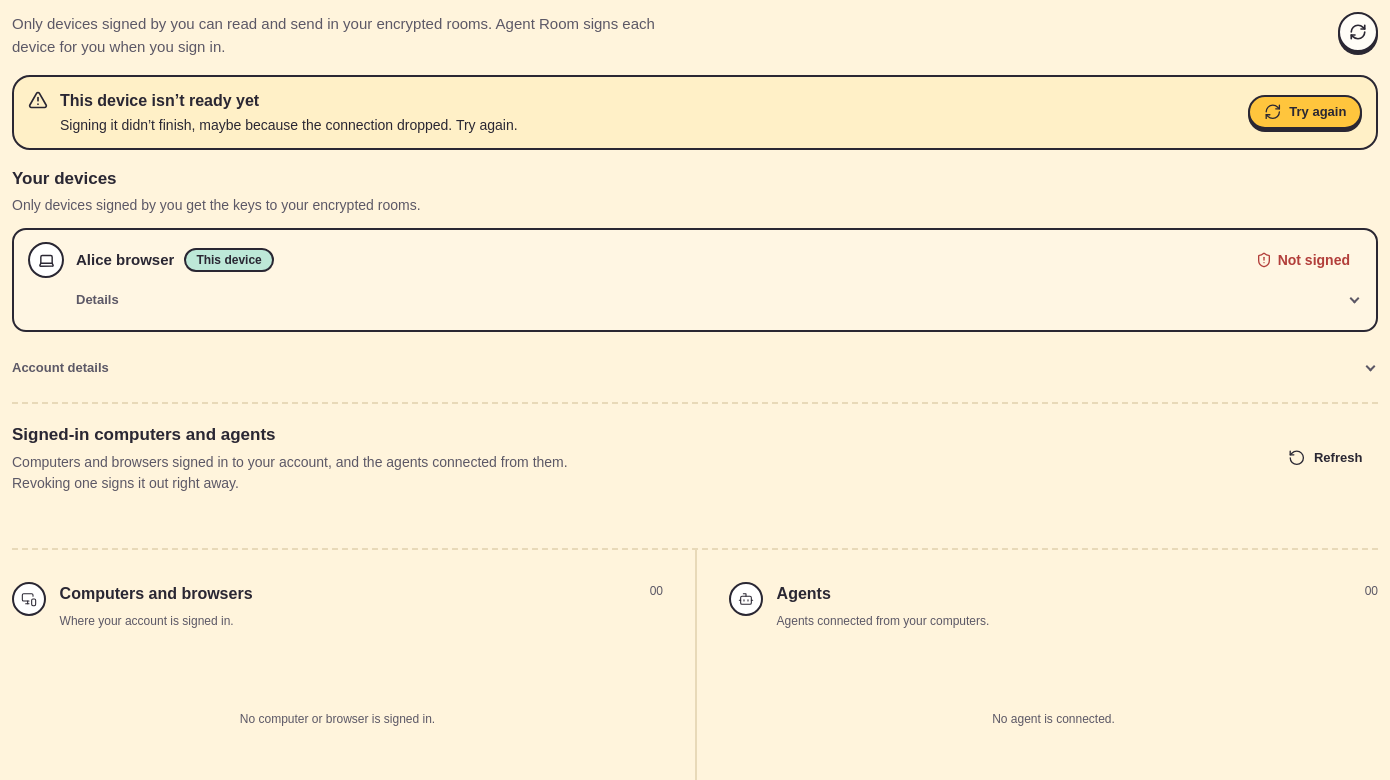
Test case: SecurityWorkspace › 自动签名出错时给一个重试，签好后变成已就绪
Expected: the text "This device isn’t ready yet" is shown, [60, 92, 259, 108]
Step 1. Click the button "Try again" → (1305, 112), box [1248, 96, 1362, 129]
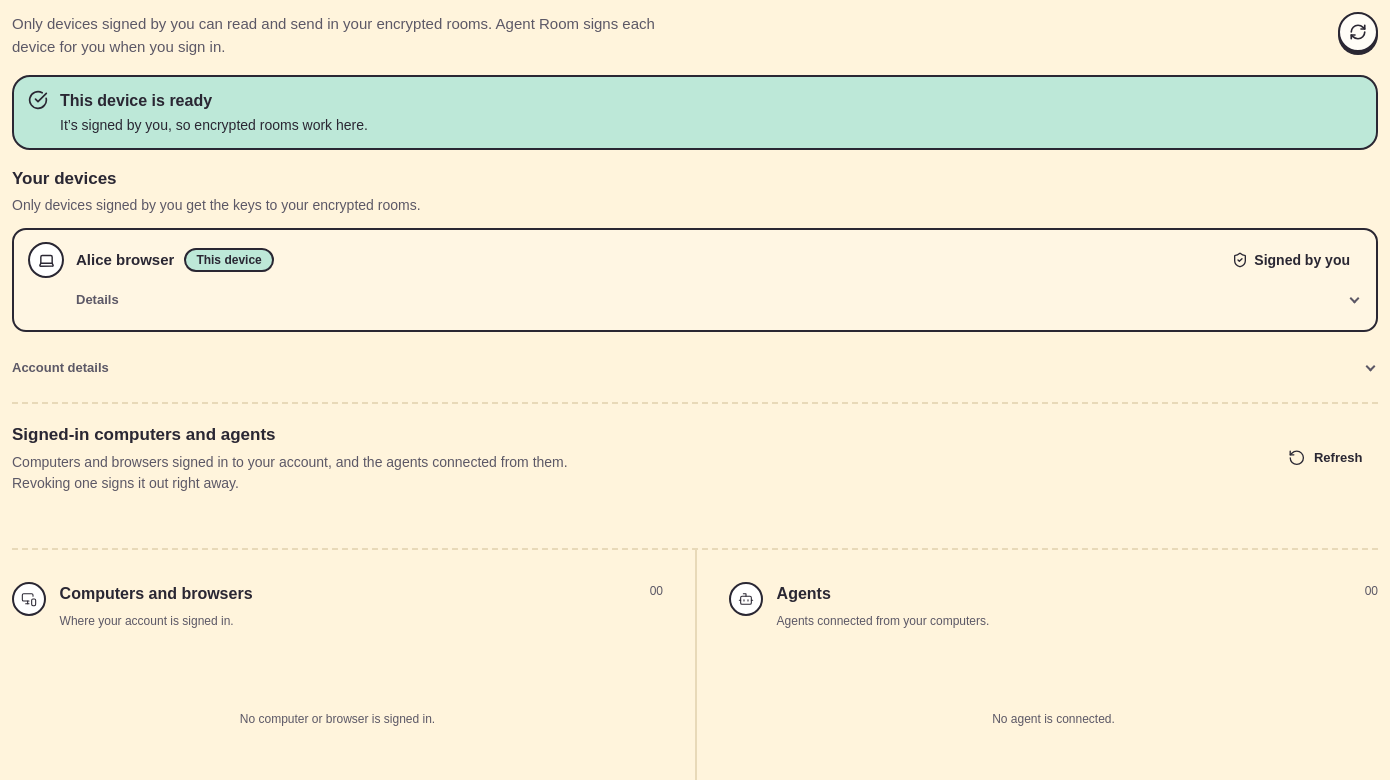
Expected: the text "This device is ready" is shown, [60, 92, 212, 108]
